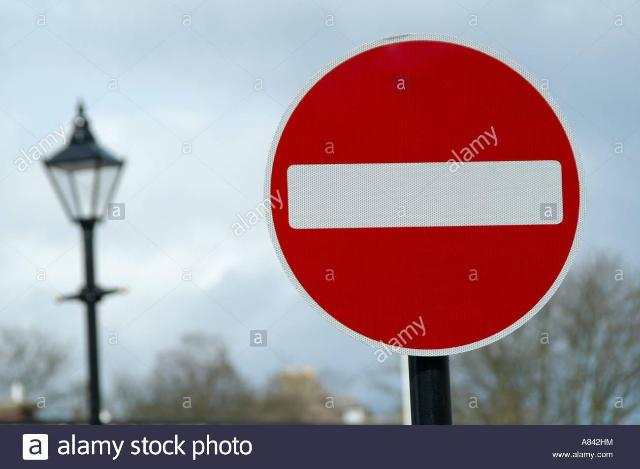B2: (264, 32, 584, 358)
